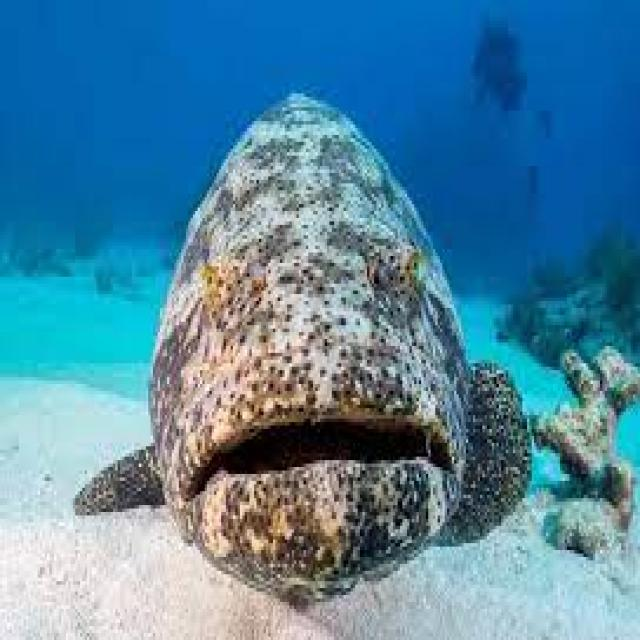grouper: (71, 75, 544, 621)
